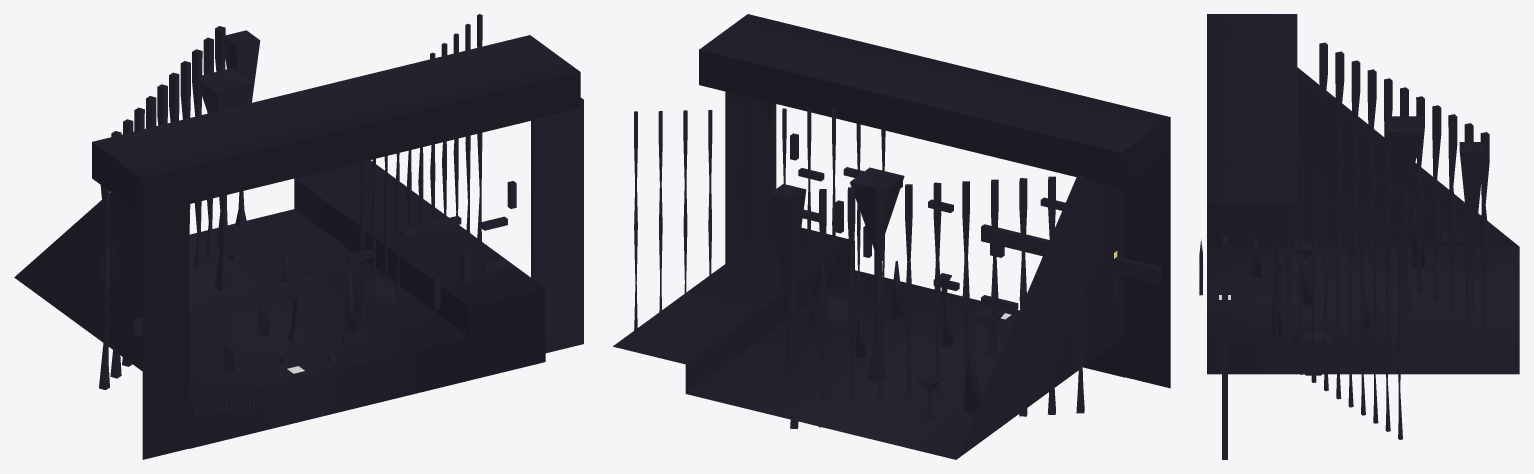
The model's file is level_one.glb.
3 renders of one model, left to right at view 1: azimuth 30°, elevation 25°; view 2: azimuth 150°, elevation 25°; view 3: azimuth 270°, elevation 25°, orthographic. The views are drawn at different scales.
Parts seen in each view (by area): view 1: Ground, Ground.021, Pole, Pole.001, Cube.004, Ground.018, Cube.005, Ground.019, Icosphere, Cone, Ground.024, Cylinder.002; view 2: Ground, Pole, Ground.021, Pole.001, Cube.004, Cube.005, Ground.018, Icosphere, Cylinder.004; view 3: Ground, Pole, Pole.001, Cube.004, Cube.005, Ground.021, Cylinder.004, Icosphere, Cylinder.002, Cylinder.
Boxes of the visible parts, left/top/right/bottom form: Ground: left=14, top=35, right=580, bottom=459; Ground.021: left=531, top=97, right=583, bottom=353; Pole: left=99, top=26, right=225, bottom=390; Pole.001: left=359, top=14, right=482, bottom=326; Cube.004: left=196, top=68, right=252, bottom=291; Ground.018: left=131, top=275, right=318, bottom=337; Cube.005: left=223, top=30, right=260, bottom=227; Ground.019: left=189, top=314, right=230, bottom=354; Icosphere: left=352, top=275, right=398, bottom=314; Cone: left=193, top=387, right=274, bottom=416; Ground.024: left=399, top=215, right=461, bottom=238; Cylinder.002: left=342, top=271, right=357, bottom=332; Ground: left=613, top=14, right=1170, bottom=459; Pole: left=790, top=175, right=1084, bottom=428; Ground.021: left=725, top=91, right=776, bottom=263; Pole.001: left=634, top=107, right=885, bottom=330; Cube.004: left=849, top=167, right=904, bottom=382; Cube.005: left=770, top=184, right=806, bottom=374; Ground.018: left=981, top=224, right=1162, bottom=284; Icosphere: left=808, top=295, right=858, bottom=332; Cylinder.004: left=962, top=339, right=980, bottom=413; Ground: left=1207, top=14, right=1519, bottom=374; Pole: left=1319, top=42, right=1489, bottom=329; Pole.001: left=1274, top=163, right=1402, bottom=439; Cube.004: left=1387, top=116, right=1423, bottom=311; Cube.005: left=1459, top=142, right=1484, bottom=315; Ground.021: left=1222, top=237, right=1227, bottom=459; Cylinder.004: left=1408, top=200, right=1425, bottom=268; Icosphere: left=1292, top=328, right=1334, bottom=375; Cylinder.002: left=1268, top=282, right=1282, bottom=335; Cylinder: left=1249, top=237, right=1261, bottom=277.
Size of the model in its own units: 77 by 46.06 by 53.28.
1 material, 1 textured.
